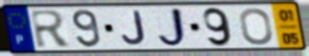9: (201, 6, 234, 48), (71, 8, 103, 49)
J: (155, 6, 191, 49), (121, 10, 148, 47)
O: (238, 7, 275, 47)
R: (28, 9, 74, 50)
